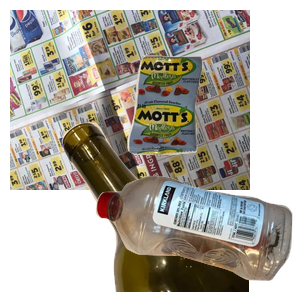glass: (60, 120, 300, 300)
paper: (10, 10, 250, 190)
plastic: (93, 173, 300, 300)
trash: (125, 53, 300, 201)
